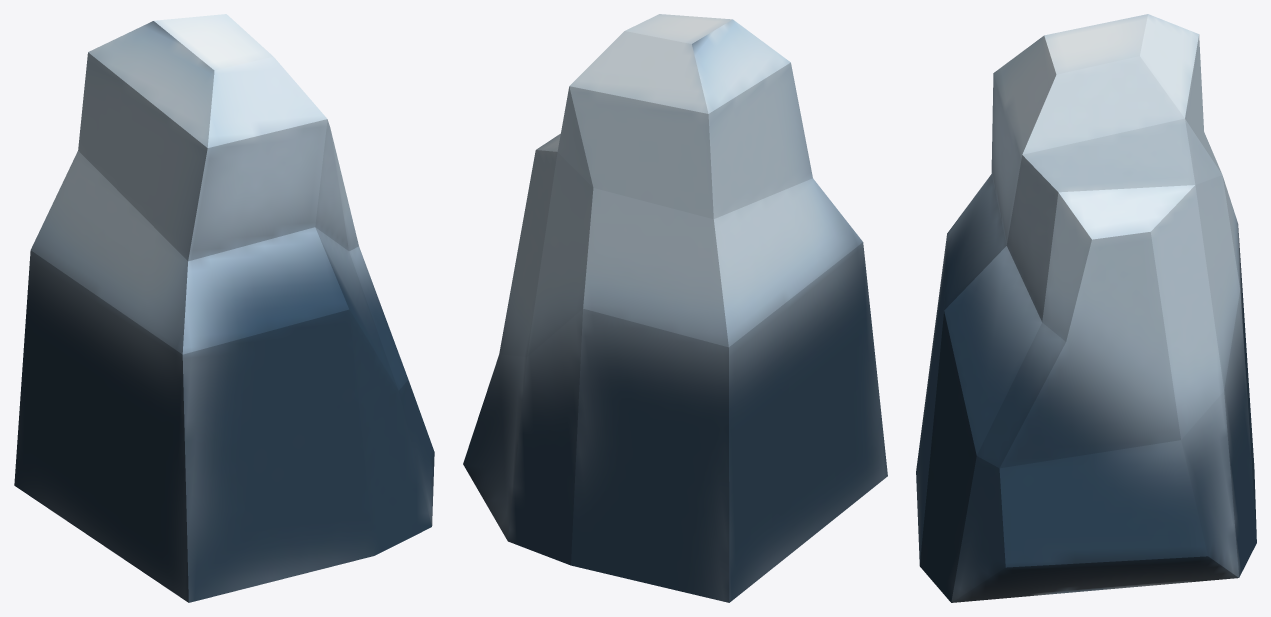
Rendered from Rock_1.fbx.
3 renders of one model, left to right at view 1: azimuth 30°, elevation 25°; view 2: azimuth 150°, elevation 25°; view 3: azimuth 270°, elevation 25°, orthographic. The views are drawn at different scales.
Parts seen in each view (by area): view 1: Rock_1; view 2: Rock_1; view 3: Rock_1.
Part boxes in pixels (<box>): Rock_1: <box>14,14,434,602</box>; Rock_1: <box>463,14,887,602</box>; Rock_1: <box>916,14,1256,602</box>.
Bounding box in the file's own units: 0.4713 × 0.7225 × 0.4494.
